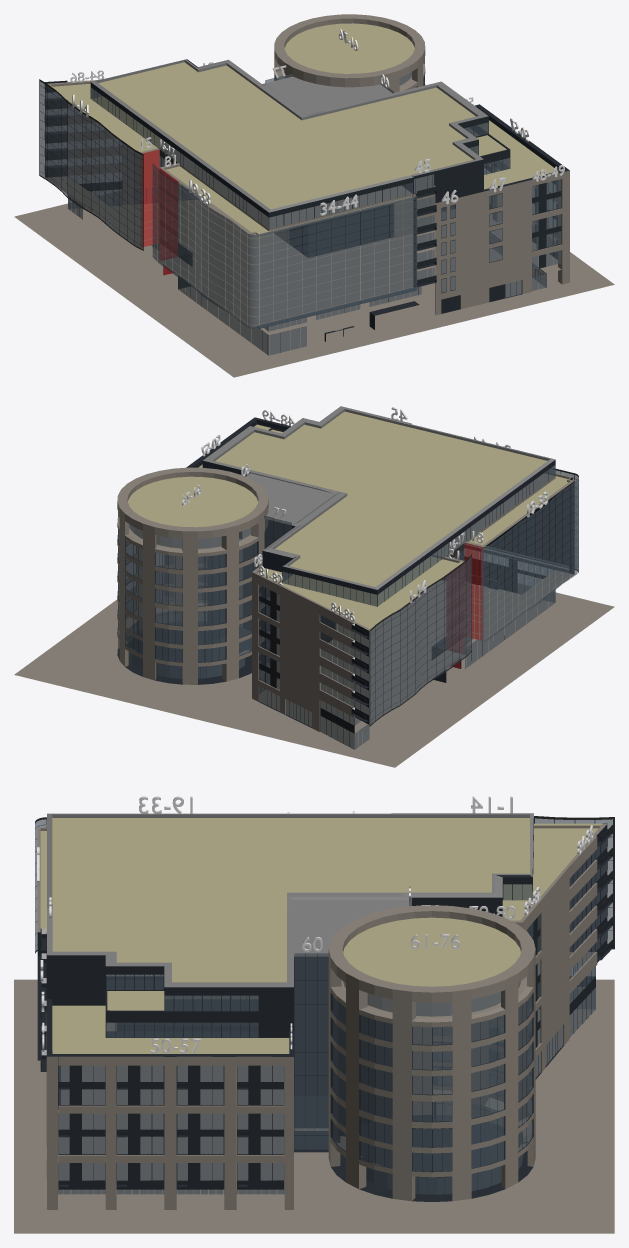
The model's file is kingsplace.glb.
3 renders of one model, top to bottom at view 1: azimuth 30°, elevation 25°; view 2: azimuth 150°, elevation 25°; view 3: azimuth 270°, elevation 25°, orthographic. The views are drawn at different scales.
Visible parts, largest first — view 1: Kingsplace, Drop15, Drop18, Drop39, Drop36, Drop37, Drop41, Drop35, Drop43, Drop38, Drop34, Drop42 (+39 smaller); view 2: Kingsplace, Drop18, Drop72, Drop73, Drop74, Drop71, Drop15, Drop4, Drop25, Drop19, Drop3, Drop10 (+32 smaller); view 3: Kingsplace, Drop60, Drop65, Drop66, Drop51, Drop55, Drop57, Drop53, Drop56, Drop50, Drop67, Drop52 (+9 smaller).
Boxes of the visible parts, left/top/right/bottom form: Kingsplace: left=14, top=14, right=614, bottom=377; Drop15: left=141, top=149, right=159, bottom=246; Drop18: left=159, top=168, right=177, bottom=260; Drop39: left=331, top=213, right=345, bottom=310; Drop36: left=288, top=224, right=302, bottom=320; Drop37: left=302, top=220, right=316, bottom=317; Drop41: left=360, top=206, right=374, bottom=303; Drop35: left=273, top=227, right=287, bottom=324; Drop43: left=389, top=199, right=403, bottom=296; Drop38: left=317, top=217, right=331, bottom=313; Drop34: left=259, top=231, right=273, bottom=327; Drop42: left=375, top=203, right=388, bottom=299; Kingsplace: left=14, top=406, right=614, bottom=767; Drop18: left=465, top=543, right=483, bottom=640; Drop72: left=169, top=555, right=182, bottom=662; Drop73: left=198, top=556, right=211, bottom=662; Drop74: left=212, top=554, right=225, bottom=661; Drop71: left=155, top=553, right=168, bottom=660; Drop15: left=446, top=564, right=464, bottom=653; Drop4: left=391, top=611, right=400, bottom=708; Drop25: left=526, top=513, right=535, bottom=610; Drop19: left=481, top=545, right=489, bottom=642; Drop3: left=383, top=616, right=391, bottom=714; Drop10: left=436, top=579, right=444, bottom=676; Kingsplace: left=14, top=813, right=614, bottom=1233; Drop60: left=294, top=953, right=328, bottom=1130; Drop65: left=412, top=1026, right=432, bottom=1171; Drop66: left=433, top=1026, right=451, bottom=1171; Drop51: left=82, top=1065, right=105, bottom=1180; Drop55: left=200, top=1065, right=223, bottom=1180; Drop57: left=260, top=1065, right=283, bottom=1180; Drop53: left=140, top=1065, right=163, bottom=1180; Drop56: left=237, top=1065, right=260, bottom=1180; Drop50: left=58, top=1065, right=81, bottom=1180; Drop67: left=472, top=1020, right=489, bottom=1168; Drop52: left=117, top=1065, right=139, bottom=1180.
Bounding box in the file's own units: 19.77 × 8.14 × 19.78.
